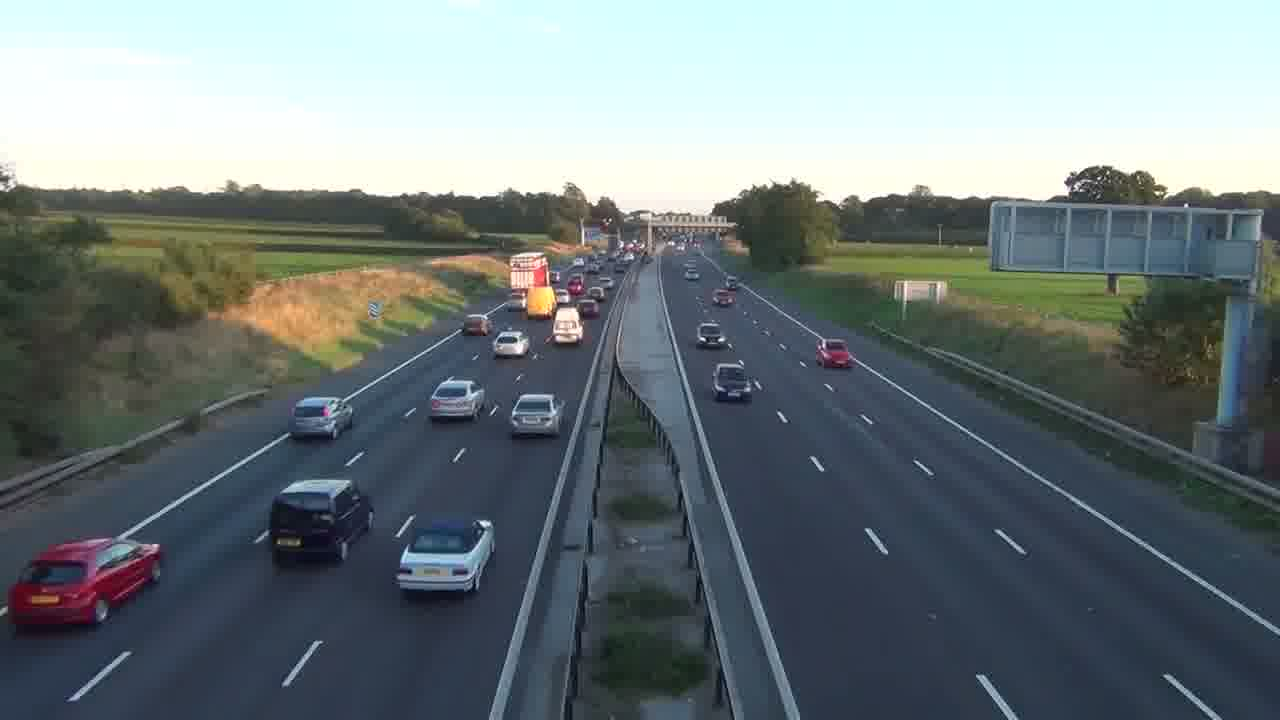car: (393, 512, 497, 598), (288, 396, 354, 439), (428, 377, 486, 422), (509, 392, 562, 437), (712, 362, 752, 402), (815, 338, 852, 369), (492, 329, 531, 358), (696, 320, 726, 348), (712, 288, 737, 307)
truck: (4, 536, 163, 631), (269, 477, 374, 564)
